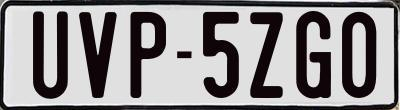0: (342, 9, 376, 95)
5: (200, 9, 239, 100)
G: (296, 11, 333, 101)
P: (127, 11, 169, 103)
U: (33, 11, 72, 99)
V: (78, 9, 121, 97)
Z: (247, 9, 282, 99)
